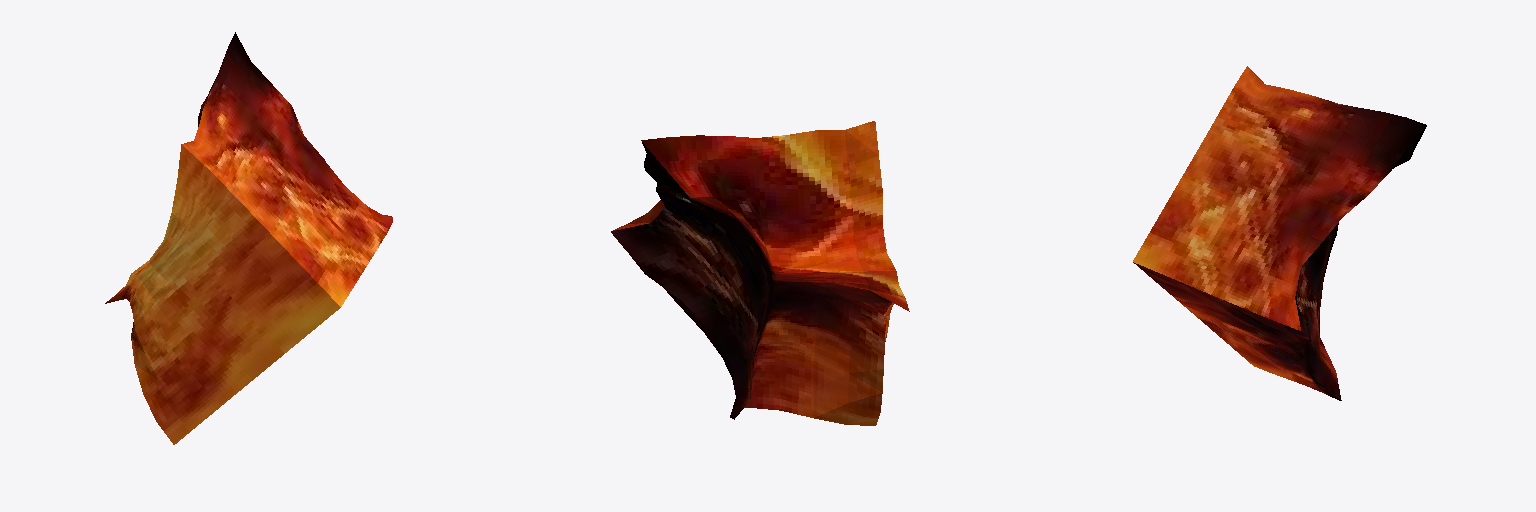
3 renders of one model, left to right at view 1: azimuth 30°, elevation 25°; view 2: azimuth 150°, elevation 25°; view 3: azimuth 270°, elevation 25°, orthographic.
Parts seen in each view (by area): view 1: 立方体; view 2: 立方体; view 3: 立方体.
Boxes of the visible parts, box(x1,y1,x2,y2) form: 立方体: box(105, 32, 392, 444); 立方体: box(611, 121, 909, 425); 立方体: box(1133, 66, 1426, 400).
Bounding box in the file's own units: 0.2769 × 0.282 × 0.2405.
1 materials, 1 textured.